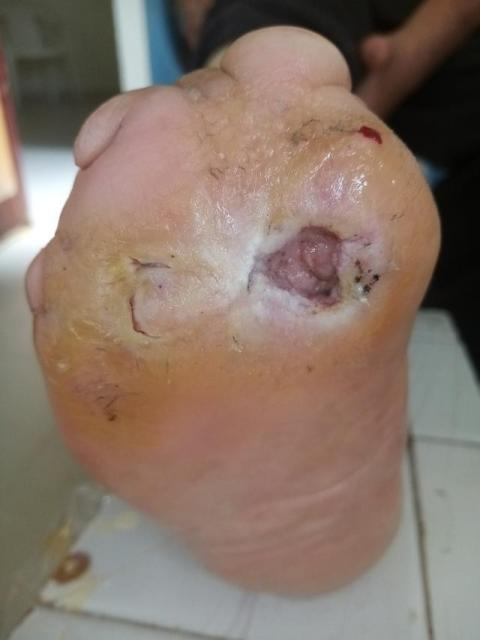wound: (247, 218, 381, 322), (123, 251, 177, 339), (346, 121, 386, 145)
